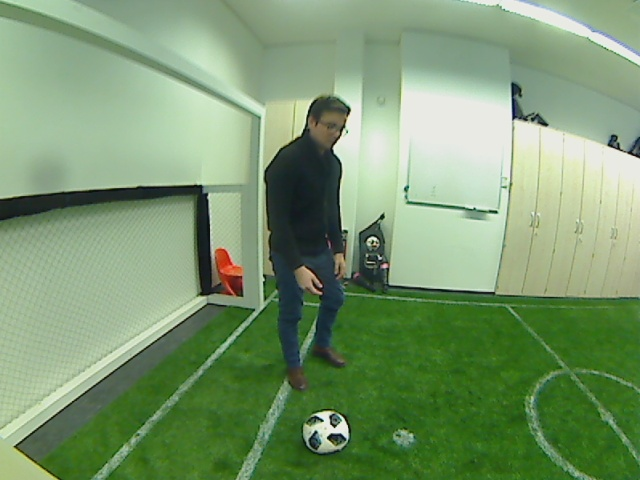ball: (301, 409, 350, 456)
